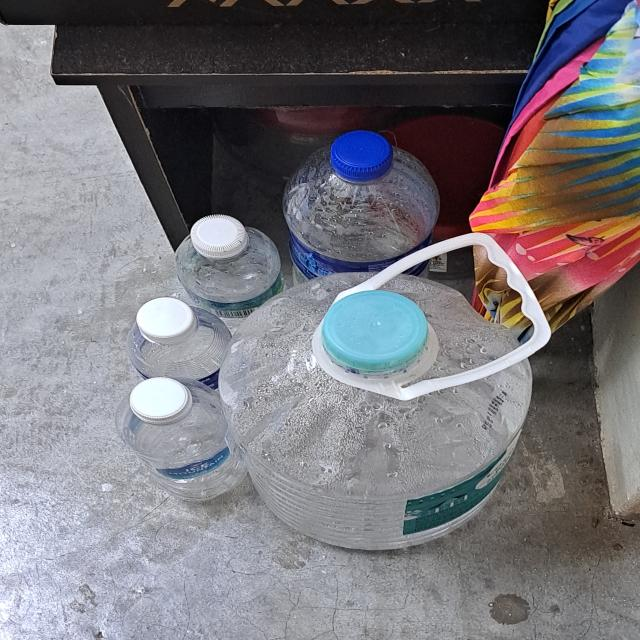plastic bottle: (215, 271, 533, 552), (283, 144, 440, 285), (116, 378, 249, 503), (173, 228, 283, 334), (124, 306, 234, 394)
plastic bottle cap: (320, 290, 428, 371), (329, 130, 394, 180), (128, 378, 194, 423), (136, 296, 197, 344), (191, 214, 248, 259)
